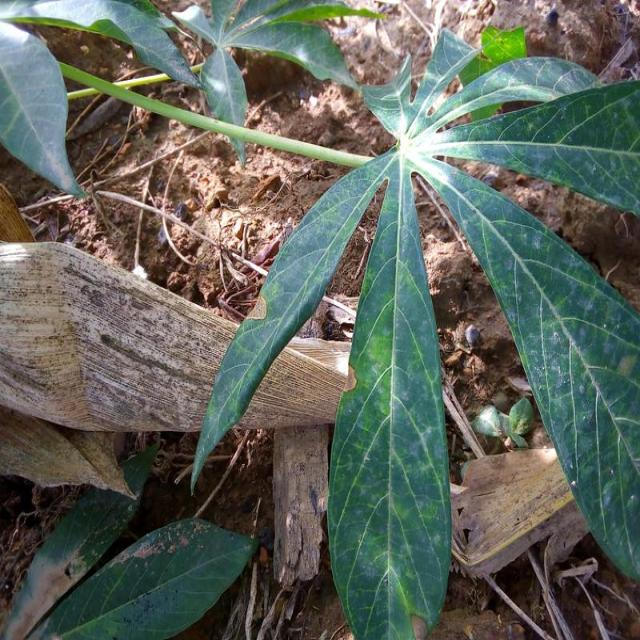cassava leaf: (189, 24, 640, 638), (326, 149, 454, 638), (29, 515, 260, 638)
